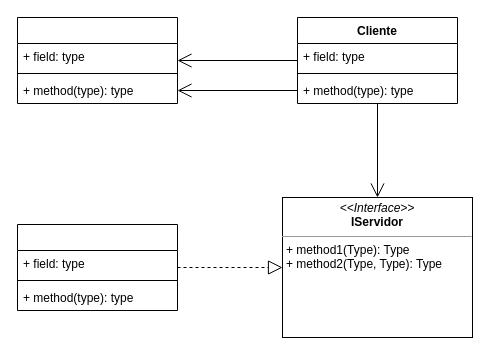
This 490x355 diagram has some shape labels left out. Each missing label, with the box of its shape:
Correo: (16, 16, 178, 104)
ServidorPop: (16, 224, 178, 310)
